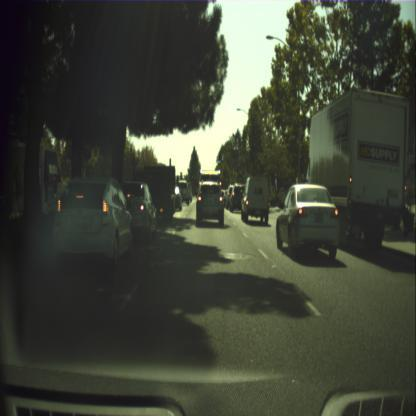Green: (218, 154, 222, 164), (238, 173, 242, 181), (243, 174, 244, 178)
Yellow: (180, 171, 182, 179)
